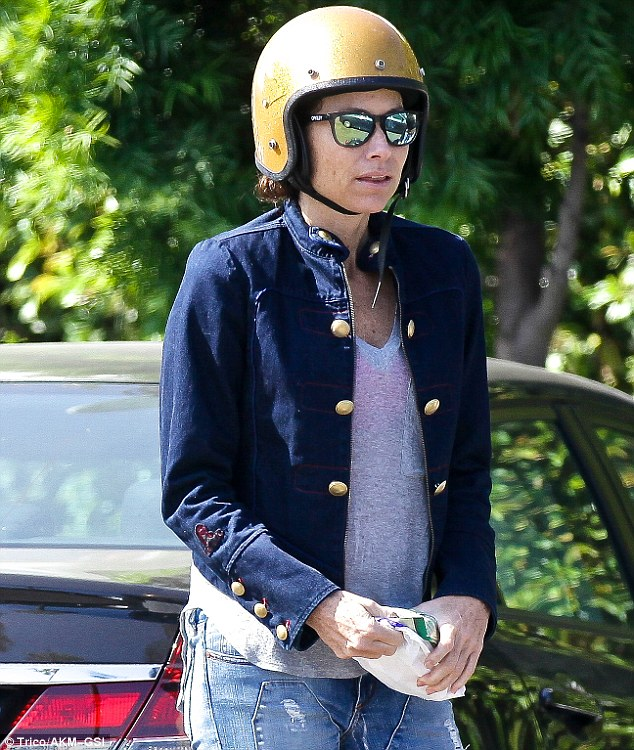helmet: (235, 5, 485, 398)
